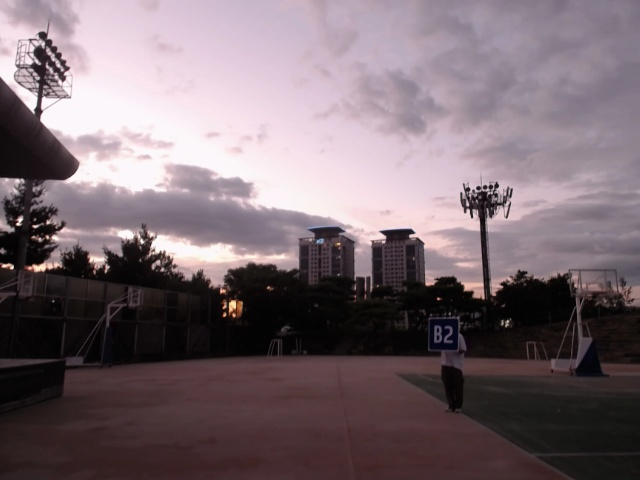delivery_b2: (427, 317, 460, 353)
